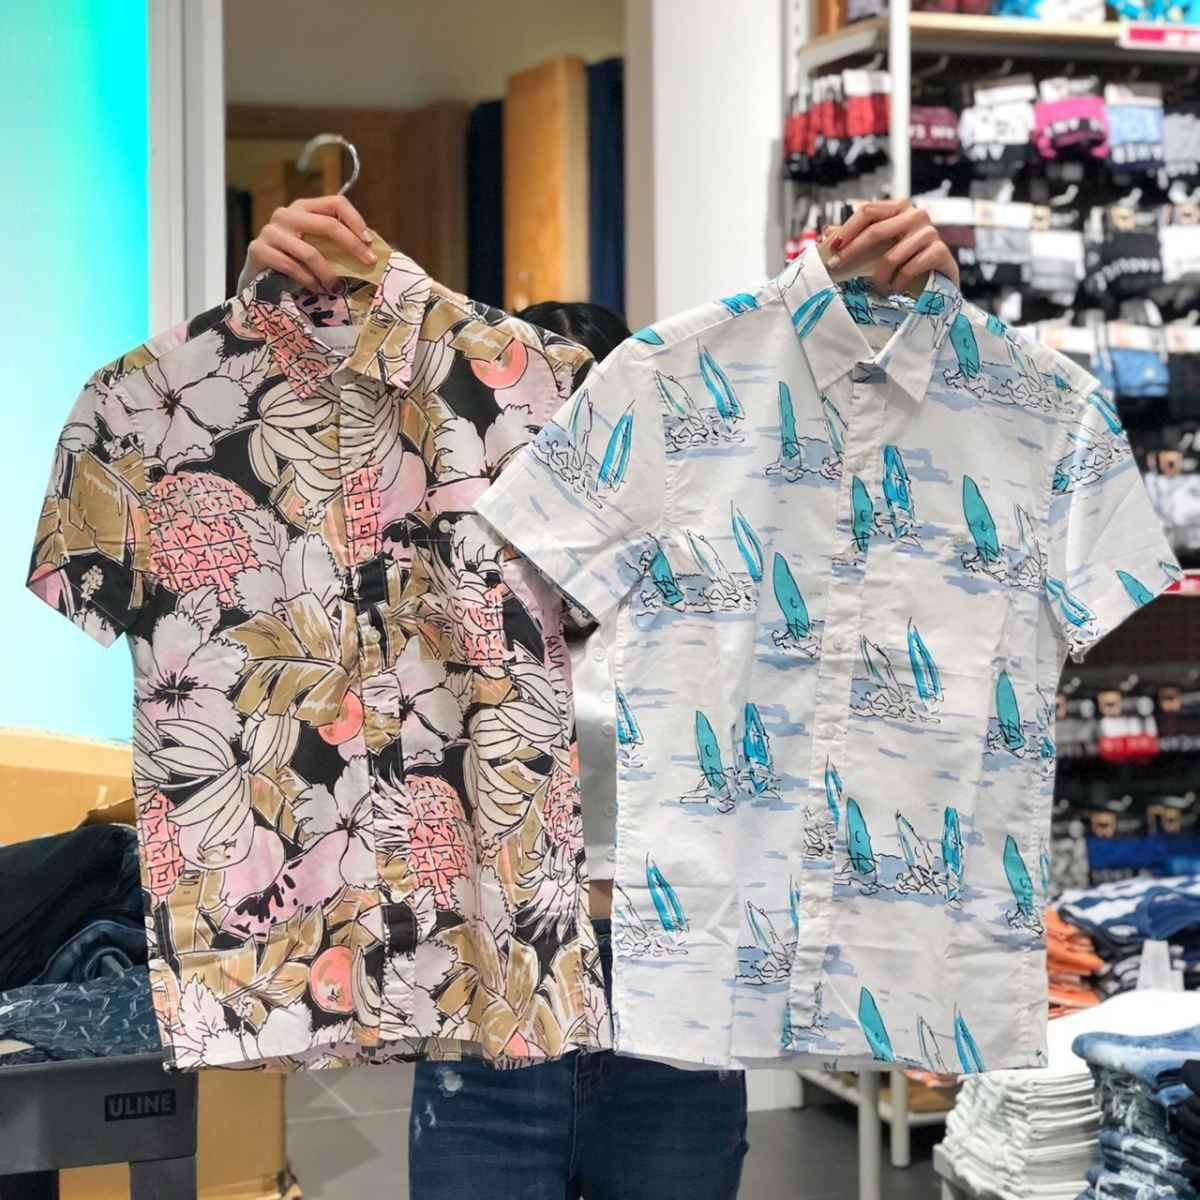shirt: (535, 279, 1137, 1066), (33, 263, 603, 1054)
